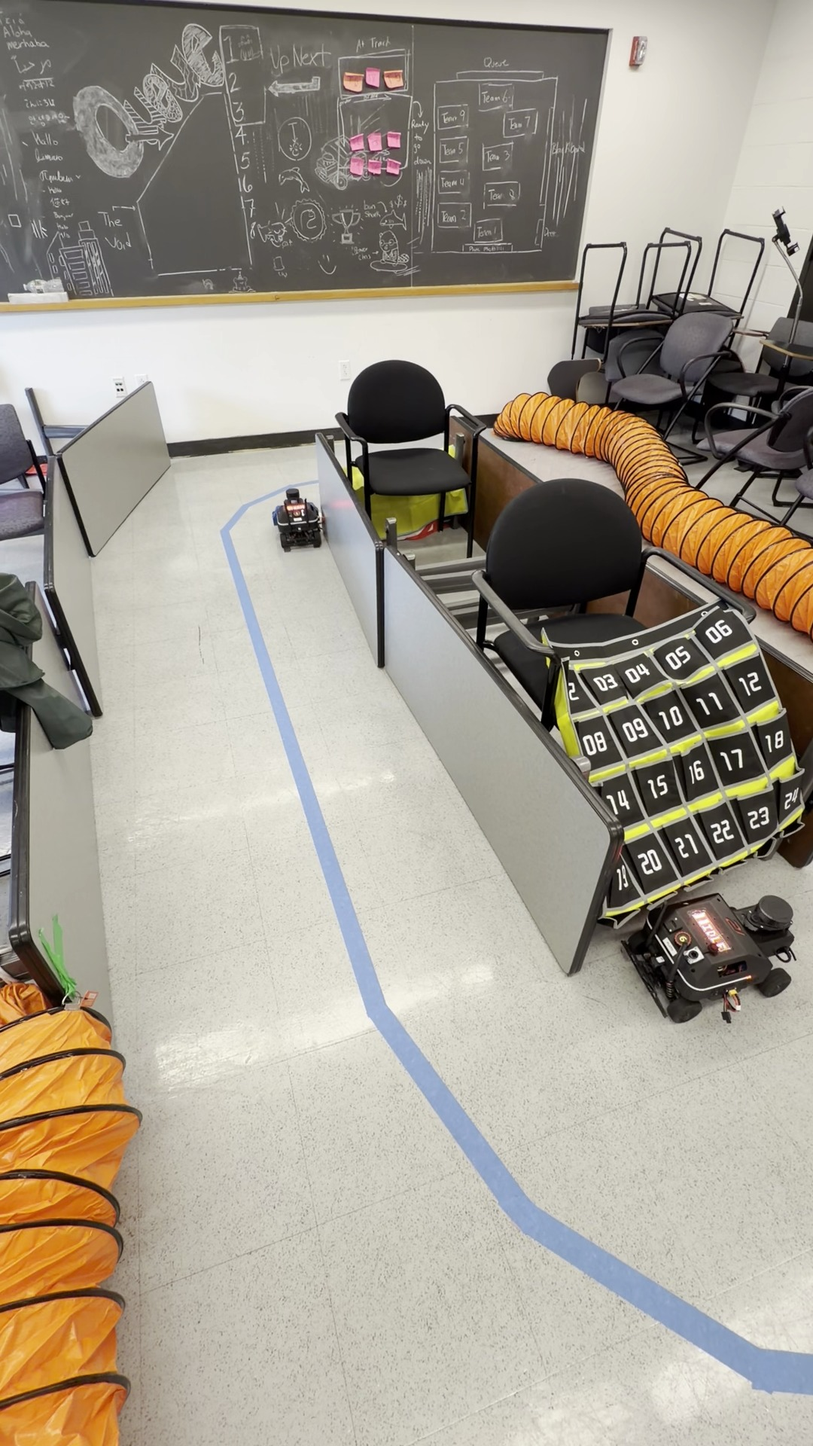racecar: (622, 892, 795, 1021), (271, 486, 323, 549)
